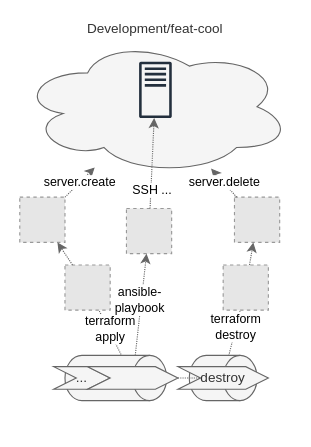
This 311x447 diagram has some shape labels left out. Grey dashed boxes stand in for pictures. The centre of each missing label's shape, as x and y in pixels:
"deploy" goes at (x=132, y=377).
"development-feat-cool-vm0" goes at (x=155, y=89).
